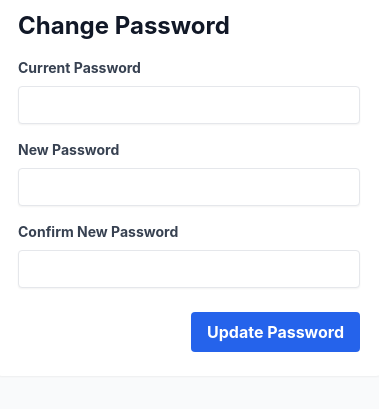
it: ChangePasswordForm › shows validation error if passwords do not match
The width and height of the screenshot is (379, 409).
Type "NewValidPassword123!" into the password field labelled "New Password" at (189, 187), box [18,168,360,206]
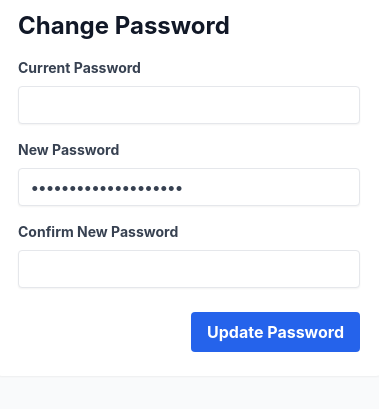
Type "DoesNotMatch!" into the password field labelled "Confirm New Password" at (189, 269), box [18,250,360,288]
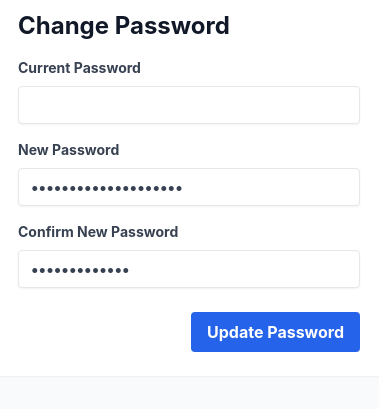
Click the button "Update Password" at (276, 332), box [191,312,360,352]
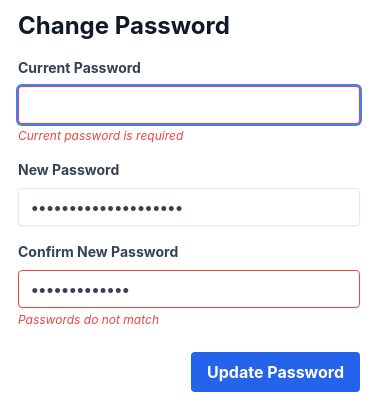
Result: the text "Passwords do not match" is shown at [18,312,159,327]
